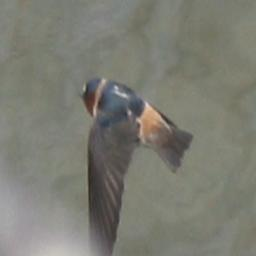Swallow: (78, 70, 195, 255)
